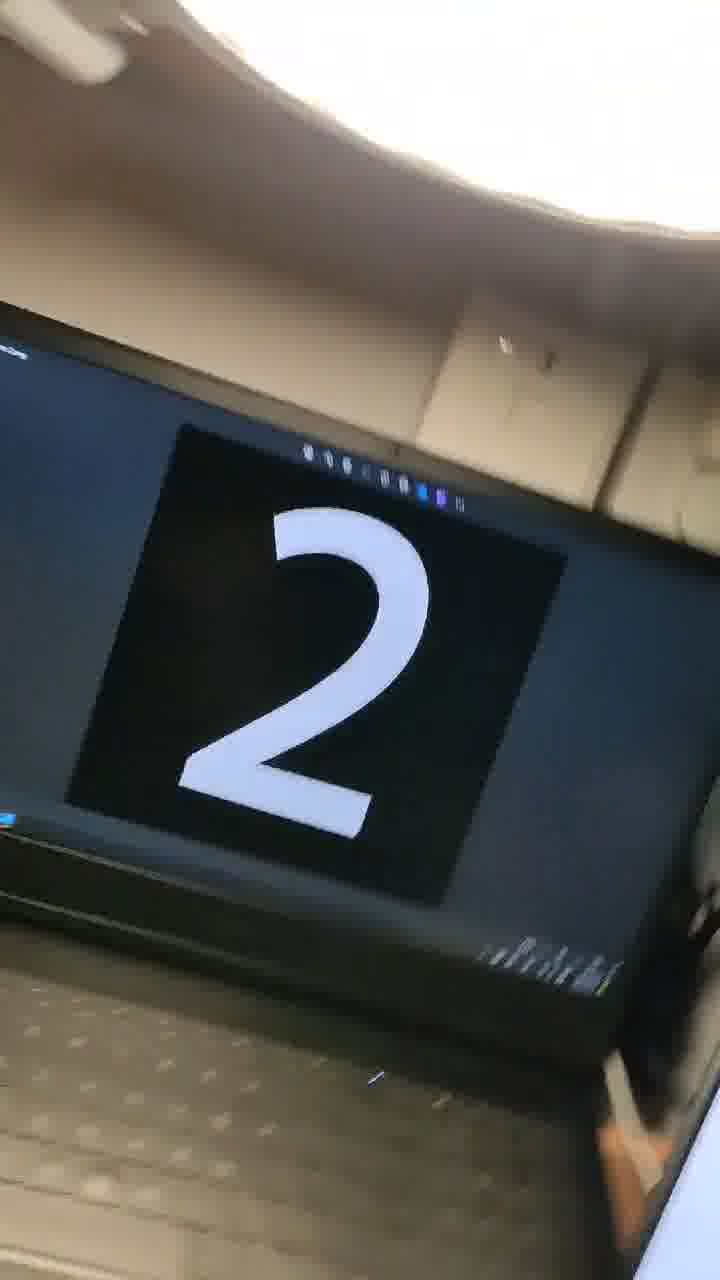two: (191, 470, 475, 886)
